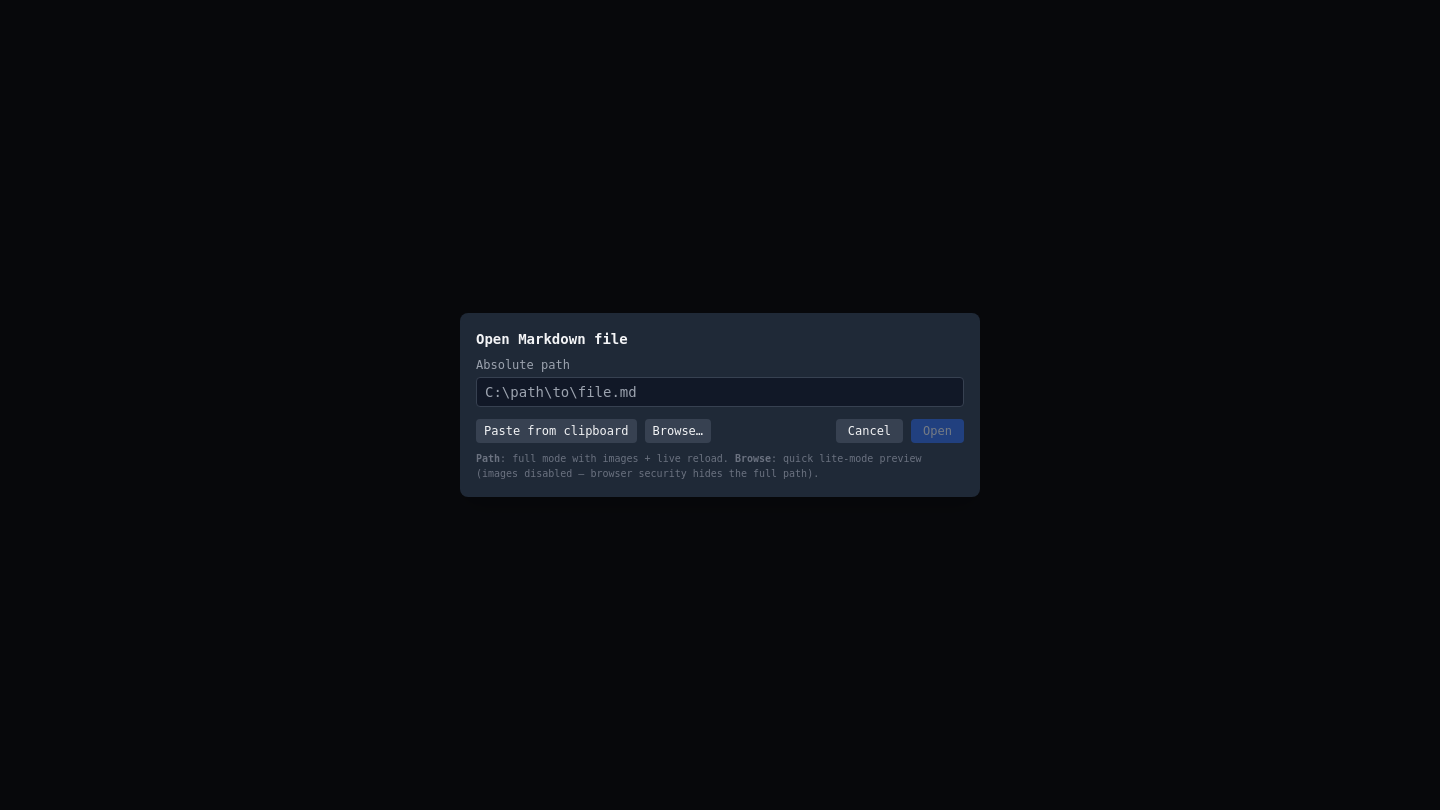
Test: OpenFileDialog › open button enabled after non-empty path
Type "/a.md" into the field with test id "open-path-input" at (720, 392), box [476,377,964,407]
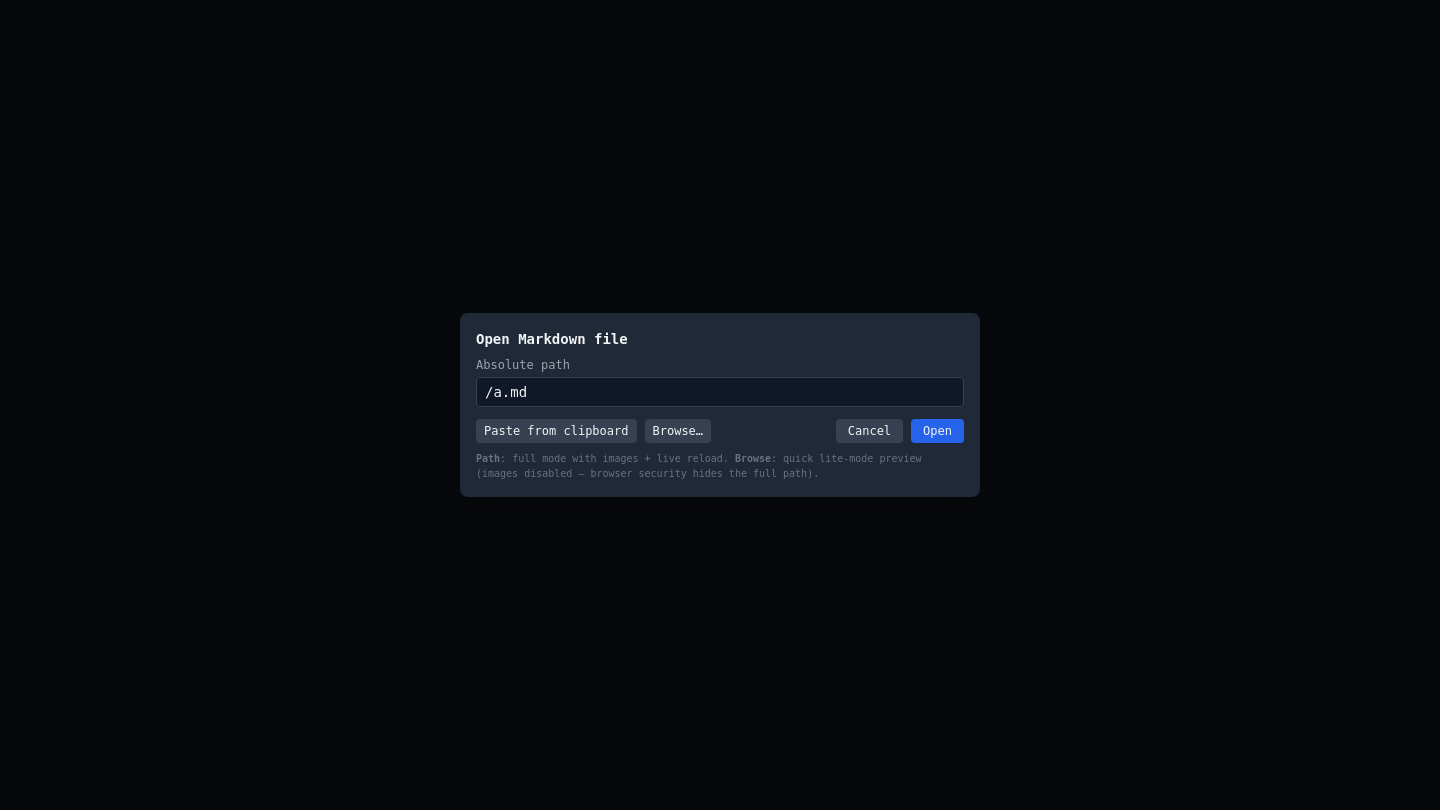
Now the button with test id "open-submit" is enabled, box [911,419,964,443]
